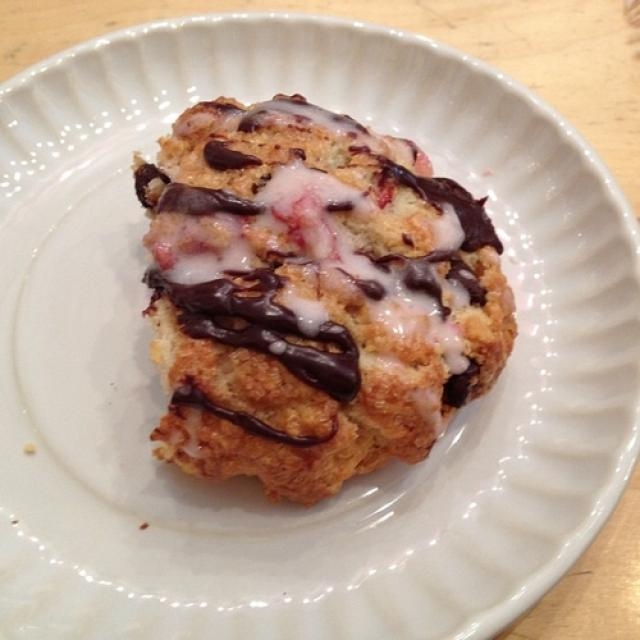面包点心: (0, 16, 631, 634)
